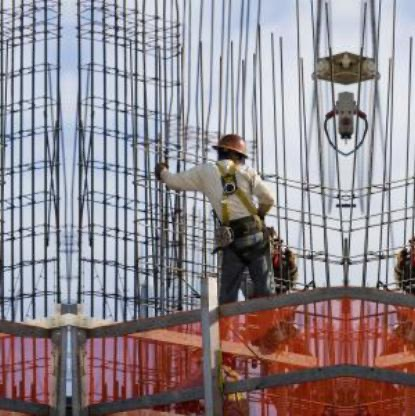Safety Helmet: (210, 131, 254, 172)
